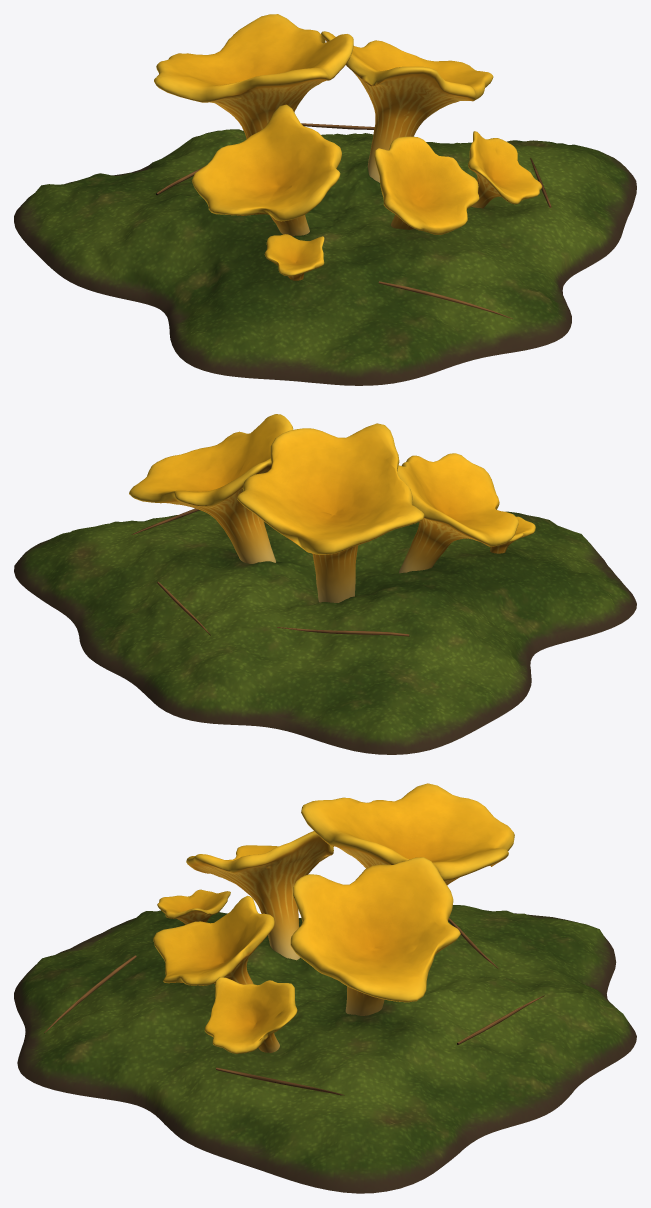
File: Chanterelles.glb
The picture shows the model from 3 angles, top to bottom: view 1: azimuth 30°, elevation 25°; view 2: azimuth 150°, elevation 25°; view 3: azimuth 270°, elevation 25°; orthographic projection. The views are drawn at different scales.
Visible parts, largest first — view 1: chanterelle_cluster; view 2: chanterelle_cluster; view 3: chanterelle_cluster.
Boxes of the visible parts, left/top/right/bottom form: chanterelle_cluster: left=14, top=14, right=636, bottom=385; chanterelle_cluster: left=14, top=414, right=636, bottom=754; chanterelle_cluster: left=14, top=783, right=636, bottom=1193.
Size of the model in its own units: 0.204 by 0.0727 by 0.1935.
Materials: 1 (1 with a texture image).
